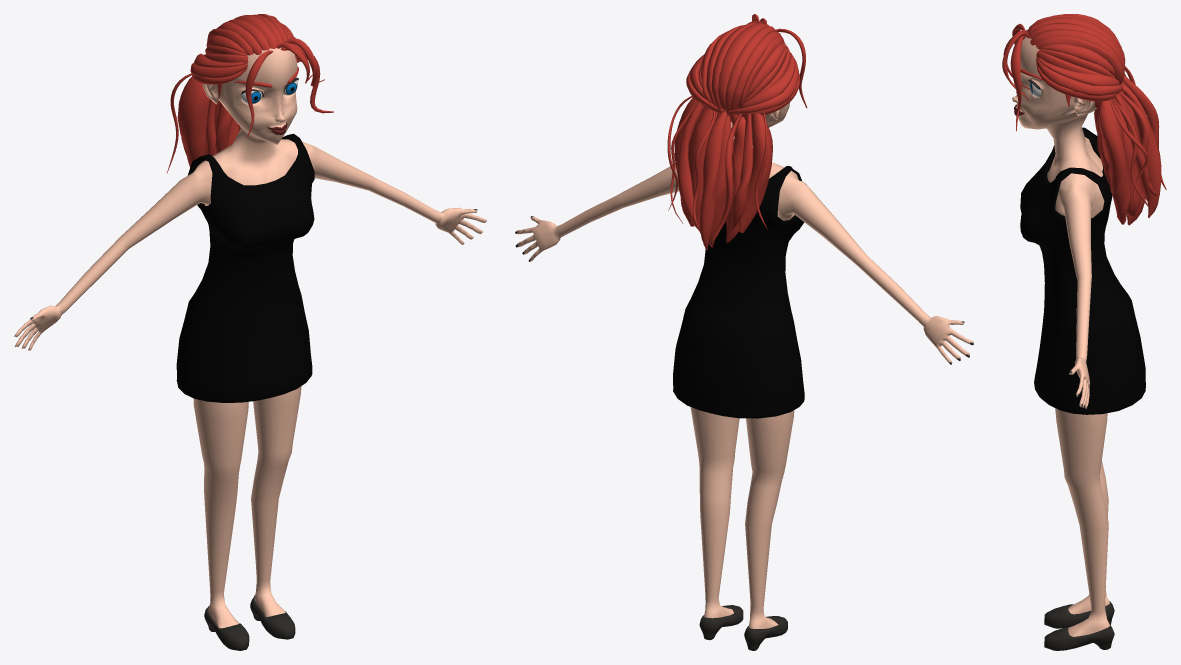
3 renders of one model, left to right at view 1: azimuth 30°, elevation 25°; view 2: azimuth 150°, elevation 25°; view 3: azimuth 270°, elevation 25°, orthographic. The views are drawn at different scales.
Parts seen in each view (by area): view 1: Model_4, Shirt.001, Heels; view 2: Model_4, Shirt.001, Heels; view 3: Model_4, Shirt.001, Heels.
Boxes of the visible parts, bbox=[...] form: Model_4: bbox=[14, 14, 486, 628]; Shirt.001: bbox=[176, 133, 314, 402]; Heels: bbox=[204, 595, 295, 650]; Model_4: bbox=[515, 14, 973, 628]; Shirt.001: bbox=[673, 166, 804, 418]; Heels: bbox=[699, 605, 787, 650]; Model_4: bbox=[1002, 14, 1166, 636]; Shirt.001: bbox=[1020, 127, 1145, 414]; Heels: bbox=[1044, 601, 1114, 650].
Bounding box in the file's own units: 389 × 488 × 117.
